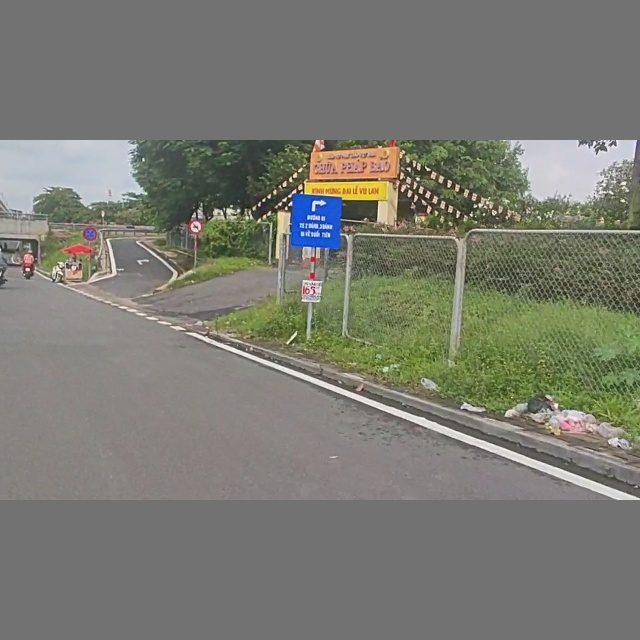P.103a: (188, 219, 203, 234)
P.130: (82, 227, 97, 241)
